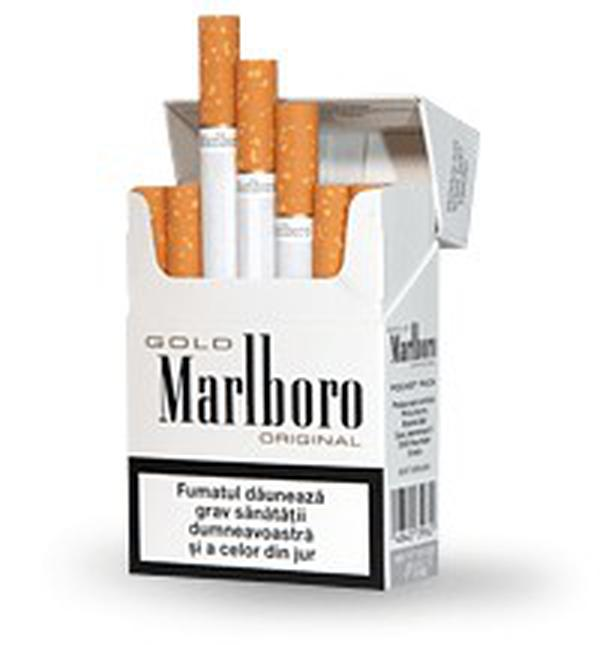marlboro_gold: (127, 205, 385, 570)
